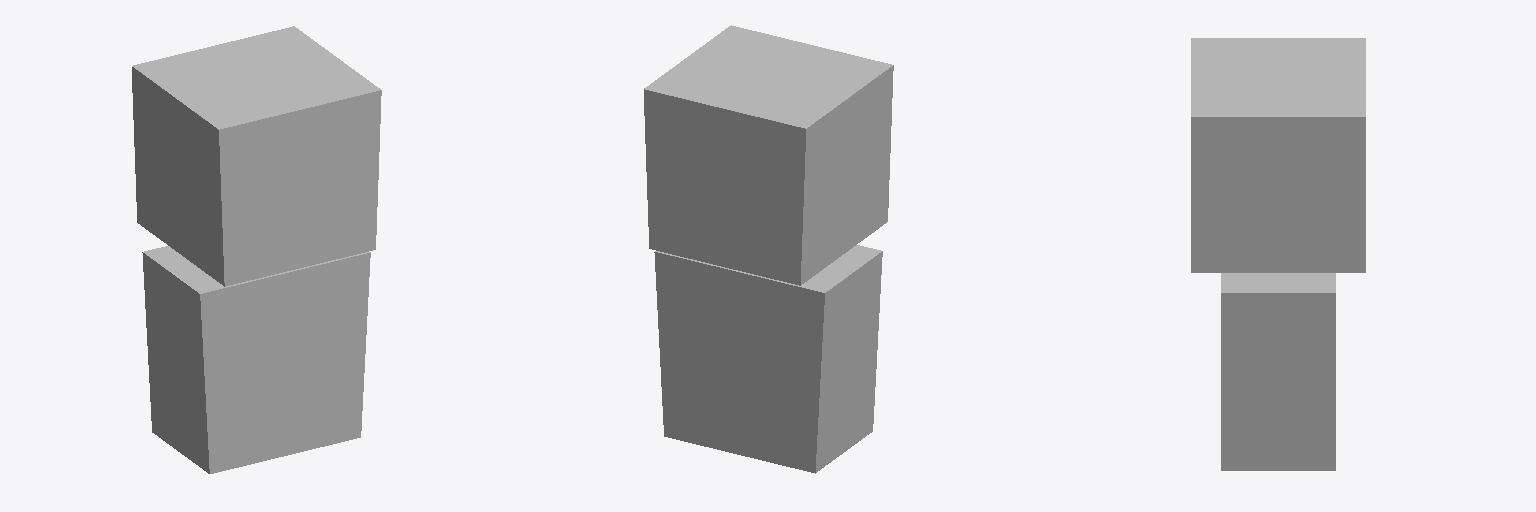
Rendered from body.obj.
3 renders of one model, left to right at view 1: azimuth 30°, elevation 25°; view 2: azimuth 150°, elevation 25°; view 3: azimuth 270°, elevation 25°, orthographic.
Visible parts, largest first — view 1: Cube; view 2: Cube, Plane; view 3: Cube.
Part boxes in pixels (bbox=[...]): Cube: bbox=[132, 26, 381, 473]; Cube: bbox=[644, 25, 893, 473]; Plane: bbox=[660, 105, 786, 262]; Cube: bbox=[1191, 38, 1365, 470].
Bounding box in the file's own units: 2.26 × 4.51 × 2.03.